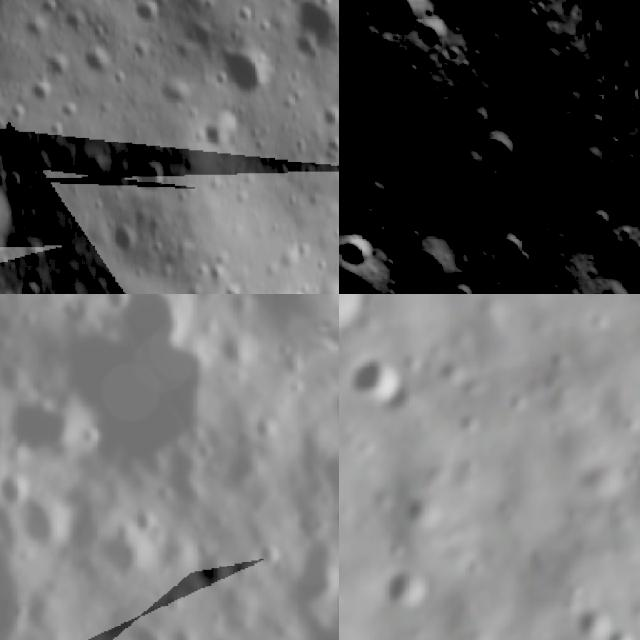crater: (25, 294, 254, 483), (0, 370, 87, 471), (0, 466, 85, 557), (236, 565, 339, 640), (379, 227, 470, 294), (409, 0, 515, 56), (339, 0, 448, 53), (89, 514, 160, 587), (340, 347, 413, 406), (463, 124, 528, 190), (218, 42, 284, 102), (588, 219, 640, 294), (371, 560, 440, 616), (486, 221, 546, 283), (185, 541, 239, 595), (398, 487, 456, 534), (339, 248, 396, 294), (409, 13, 458, 65), (576, 197, 628, 245), (242, 526, 290, 578), (569, 599, 623, 640), (119, 491, 165, 539), (126, 150, 170, 200), (339, 223, 379, 277), (0, 452, 34, 509), (0, 171, 22, 257), (123, 0, 176, 35), (459, 103, 500, 144), (437, 268, 494, 294), (116, 611, 167, 640), (42, 46, 78, 85), (26, 77, 60, 113), (91, 294, 134, 317), (605, 619, 640, 640), (281, 280, 317, 294)
